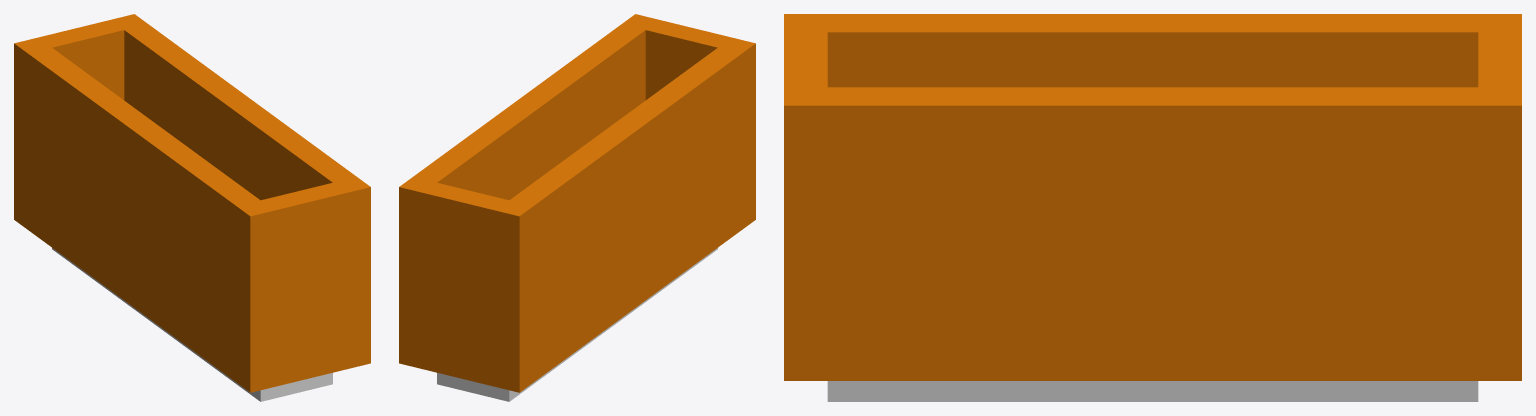
Rendered from scene_0_collisions.glb.
3 renders of one model, left to right at view 1: azimuth 30°, elevation 25°; view 2: azimuth 150°, elevation 25°; view 3: azimuth 270°, elevation 25°, orthographic. The views are drawn at different scales.
Parts seen in each view (by area): view 1: walls.003, walls.004, walls.002, walls.005, walls; view 2: walls.003, walls.005, walls.002, walls.004, walls; view 3: walls.002, walls.003, walls.005, walls.004, walls.
Boxes of the visible parts, left/top/right/bottom form: walls.003: left=28, top=47, right=259, bottom=382; walls.004: left=236, top=177, right=370, bottom=392; walls.002: left=124, top=24, right=356, bottom=200; walls.005: left=14, top=14, right=147, bottom=229; walls: left=52, top=248, right=332, bottom=401; walls.003: left=510, top=47, right=741, bottom=382; walls.005: left=399, top=177, right=533, bottom=392; walls.002: left=413, top=24, right=645, bottom=200; walls.004: left=622, top=14, right=755, bottom=229; walls: left=437, top=248, right=717, bottom=401; walls.002: left=827, top=87, right=1478, bottom=380; walls.003: left=827, top=14, right=1478, bottom=87; walls.005: left=1478, top=14, right=1521, bottom=380; walls.004: left=784, top=14, right=827, bottom=380; walls: left=827, top=381, right=1478, bottom=401.
Size of the model in its own units: 10 by 16 by 34.
